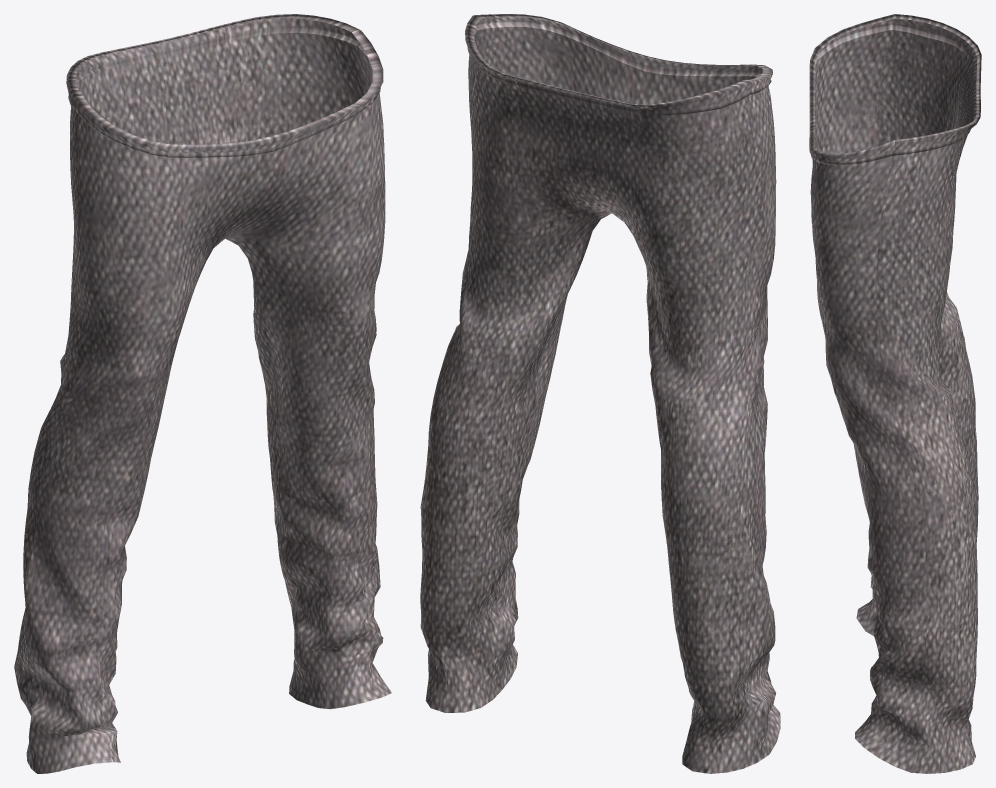
The model's file is Trousers.fbx.
3 renders of one model, left to right at view 1: azimuth 30°, elevation 25°; view 2: azimuth 150°, elevation 25°; view 3: azimuth 270°, elevation 25°, orthographic. The views are drawn at different scales.
Parts seen in each view (by area): view 1: pantaloncini marvelous prova; view 2: pantaloncini marvelous prova; view 3: pantaloncini marvelous prova.
Part boxes in pixels (x1,y1,x2,y2): pantaloncini marvelous prova: (14,14,391,773); pantaloncini marvelous prova: (420,14,780,773); pantaloncini marvelous prova: (809,14,981,773).
Size of the model in its own units: 45.76 by 85.85 by 21.5.
Materials: 1 (1 with a texture image).
